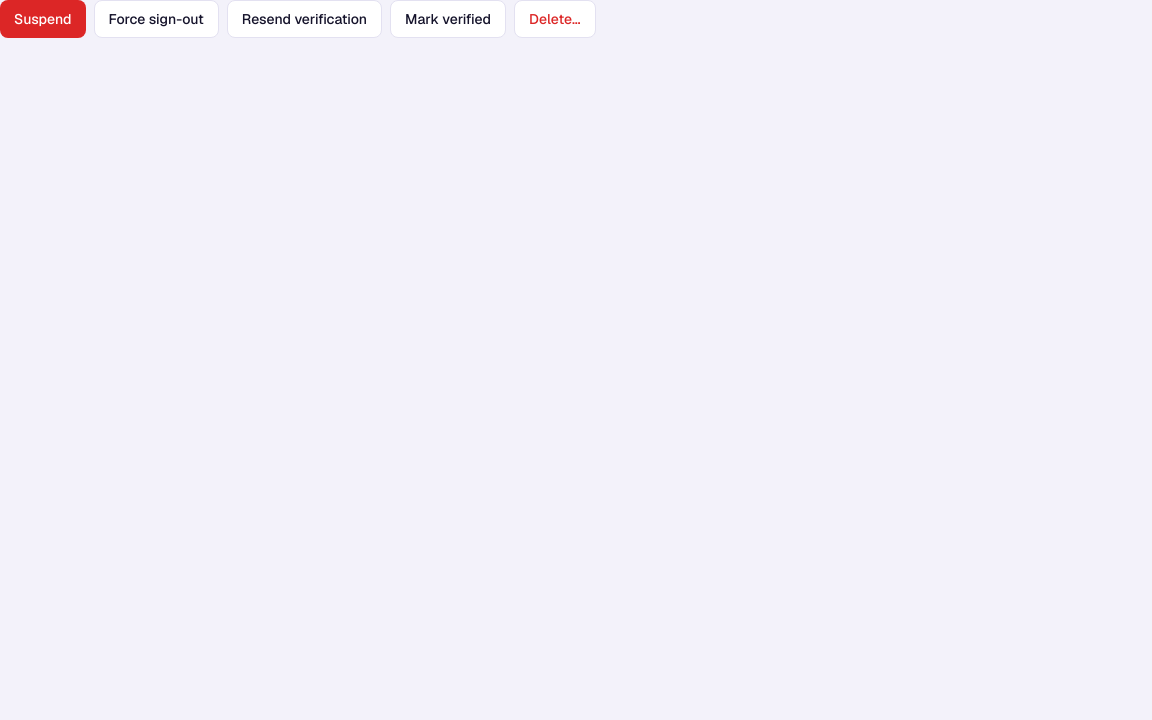
user actions › deleting needs a reason AND the user's email typed out
The width and height of the screenshot is (1152, 720).
Later steps or results of the test are not shown.
Click the button "Delete…": click(555, 19) x1=514 y1=0 x2=596 y2=38
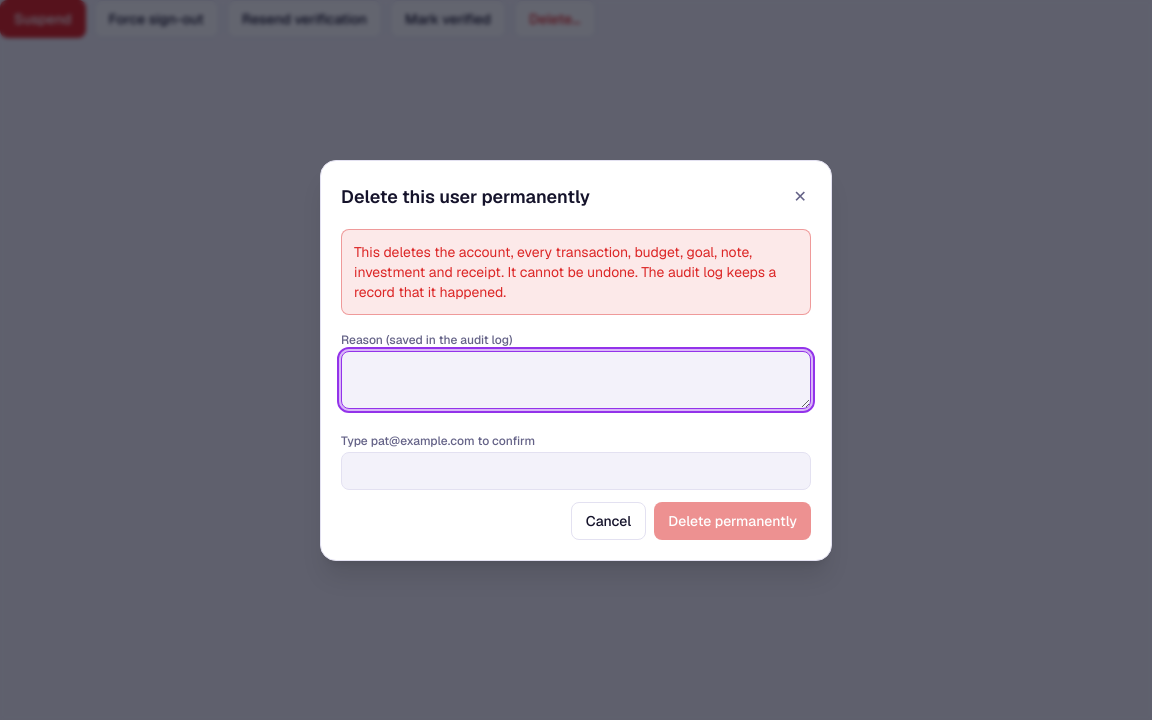
In the text box labelled "Reason (saved in the audit log)": (576, 380) x1=341 y1=350 x2=811 y2=408, type "user asked by email"
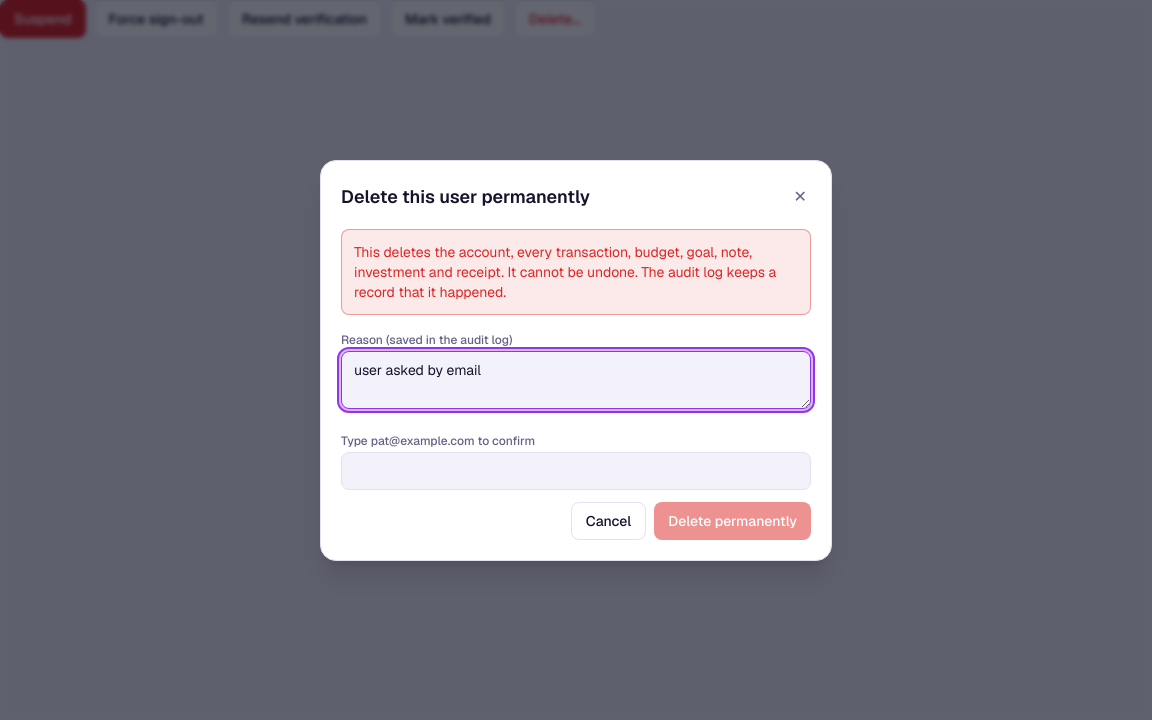
In the field labelled "Type pat@example.com to confirm": (576, 470) x1=341 y1=452 x2=811 y2=490, type "pat@example.co"
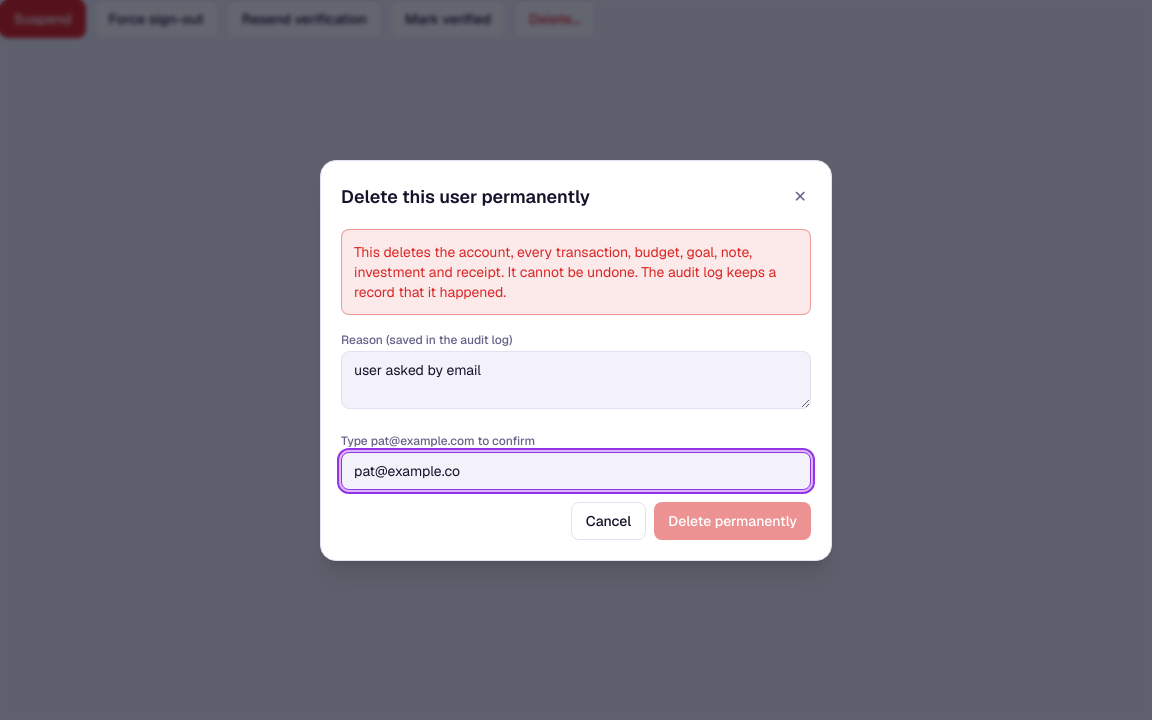
expect the button "Delete permanently" is disabled: met, box x1=654 y1=502 x2=811 y2=540
In the field labelled "Type pat@example.com to confirm": (576, 470) x1=341 y1=452 x2=811 y2=490, type "M"
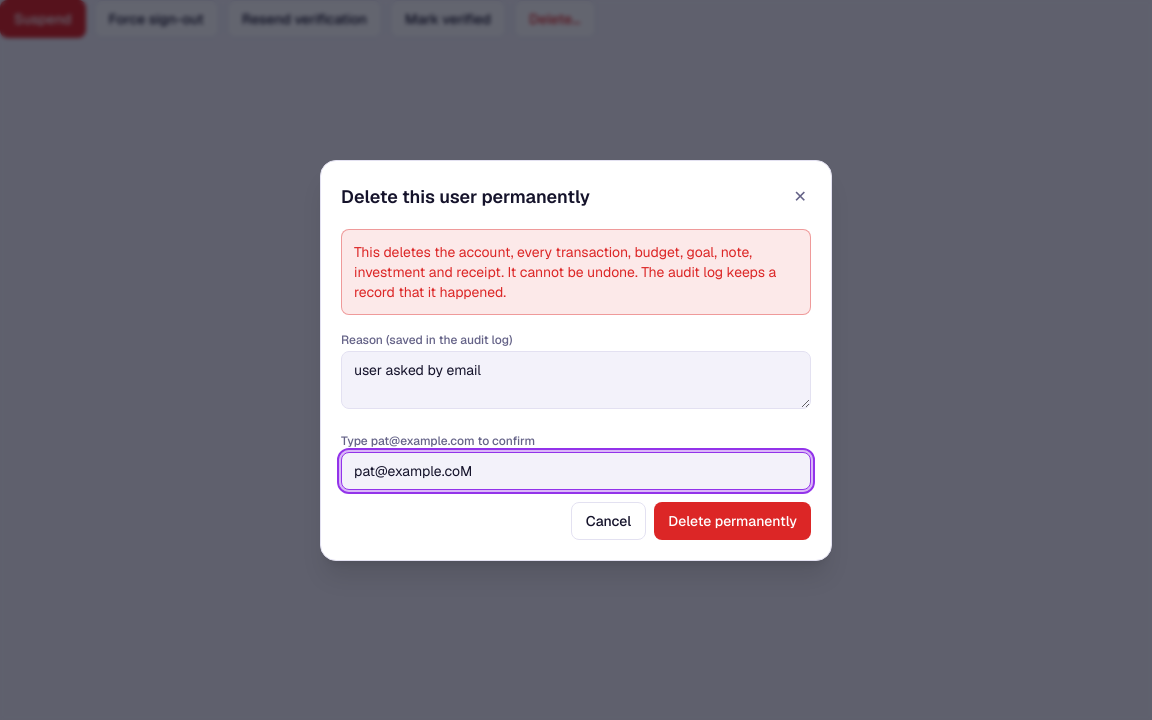
expect the button "Delete permanently" is enabled: met, box x1=654 y1=502 x2=811 y2=540
